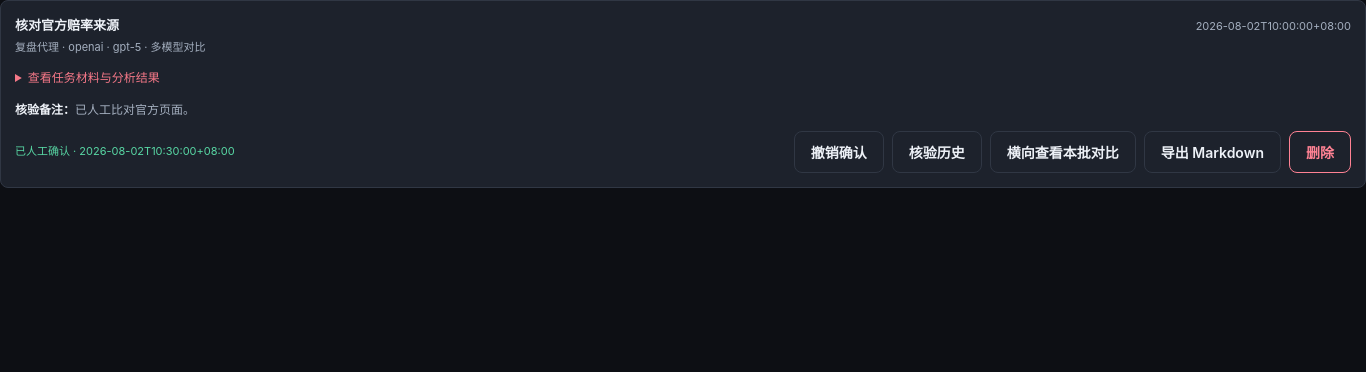
Test: AgentWorkspaceArchiveItem › 可按需载入同一批次的多模型结果横向核对
This screenshot has width=1366, height=372.
Click the button "横向查看本批对比".
click(1063, 152)  # box [990,131,1136,173]
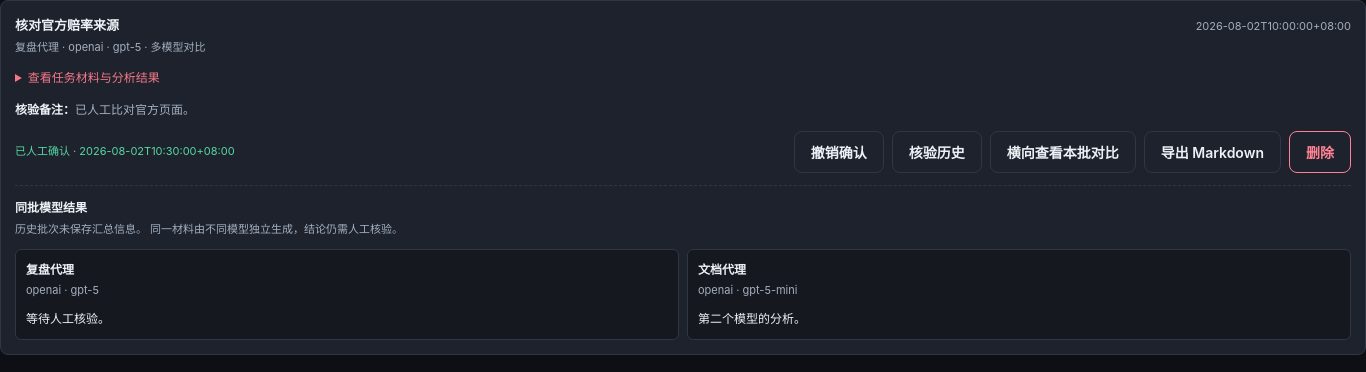
Now the text "第二个模型的分析。" is shown, box [698,311,806,326]
